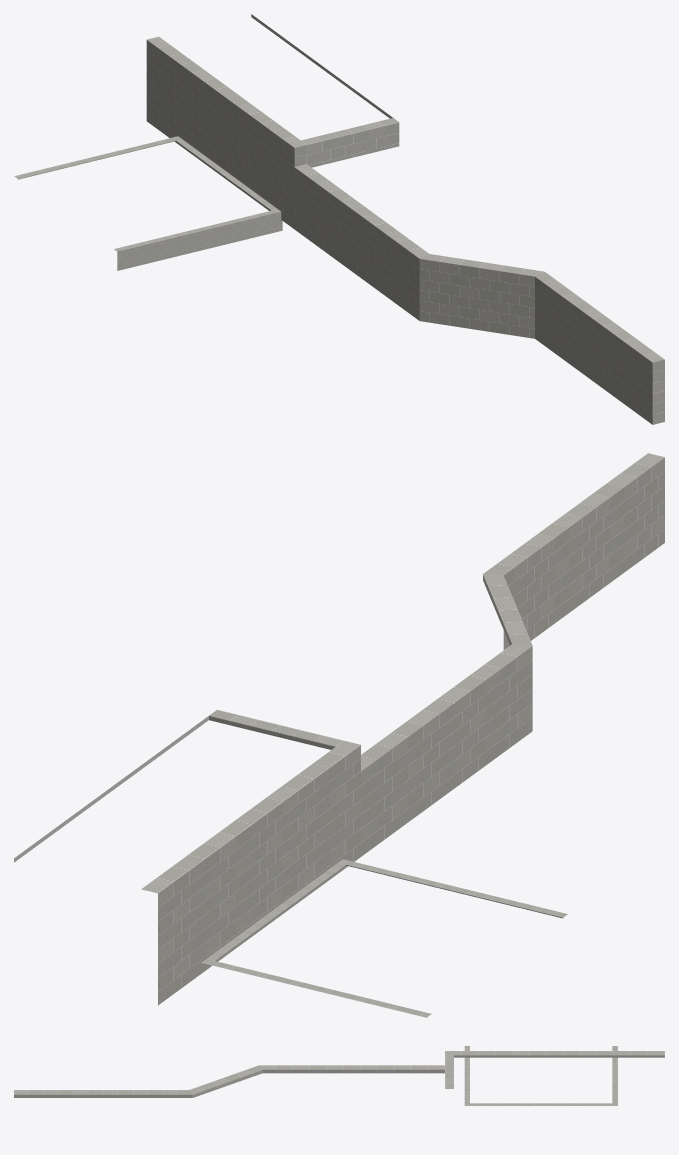
The model's file is kd_stage_135d18_3_0_bounded.glb.
3 views of the same model, one above another, from view 1: azimuth 30°, elevation 25°; view 2: azimuth 150°, elevation 25°; view 3: azimuth 270°, elevation 25° (orthographic). The views are drawn at different scales.
Visible parts, largest first — view 1: kd_stage_135d18_3_0_bounded; view 2: kd_stage_135d18_3_0_bounded; view 3: kd_stage_135d18_3_0_bounded.
Boxes of the visible parts, bbox=[...] form: kd_stage_135d18_3_0_bounded: bbox=[14, 14, 664, 424]; kd_stage_135d18_3_0_bounded: bbox=[14, 453, 664, 1017]; kd_stage_135d18_3_0_bounded: bbox=[14, 1046, 664, 1105].
Size of the model in its own units: 4.36 by 1.44 by 12.3.
Materials: 1 (1 with a texture image).
